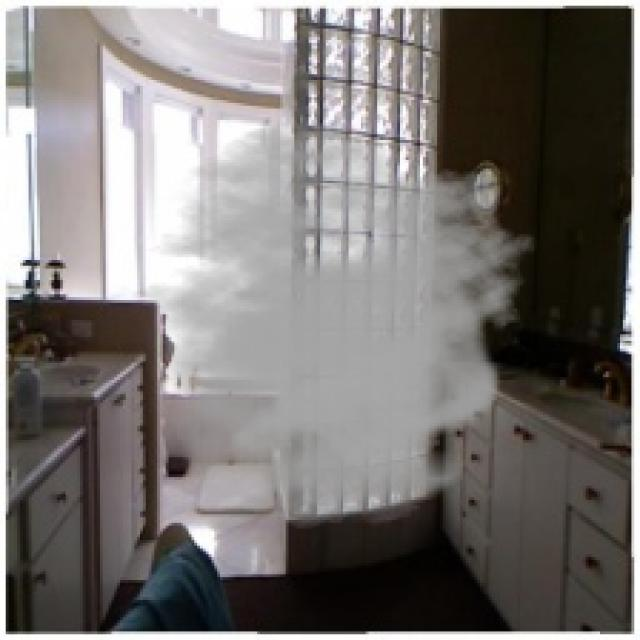smoke: (112, 120, 537, 529)
